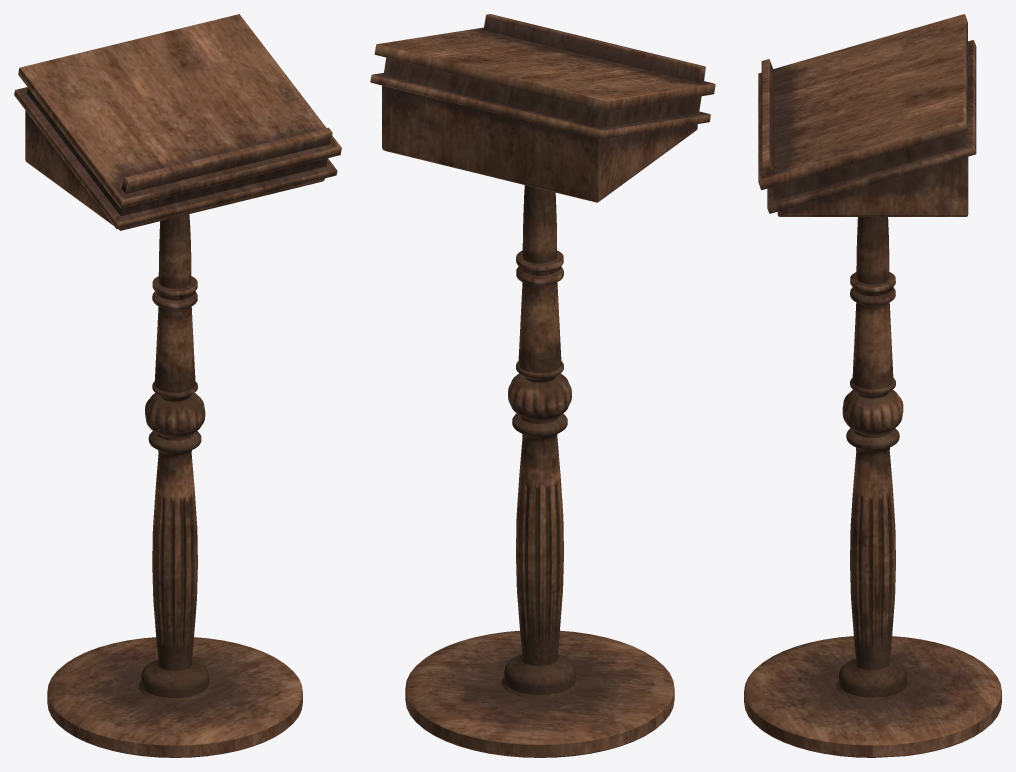
Rendered from lectern.glb.
3 views of the same model, side by side, from view 1: azimuth 30°, elevation 25°; view 2: azimuth 150°, elevation 25°; view 3: azimuth 270°, elevation 25° (orthographic). The views are drawn at different scales.
Size of the model in its own units: 0.5601 by 1.53 by 0.5601.
1 material, 1 textured.
